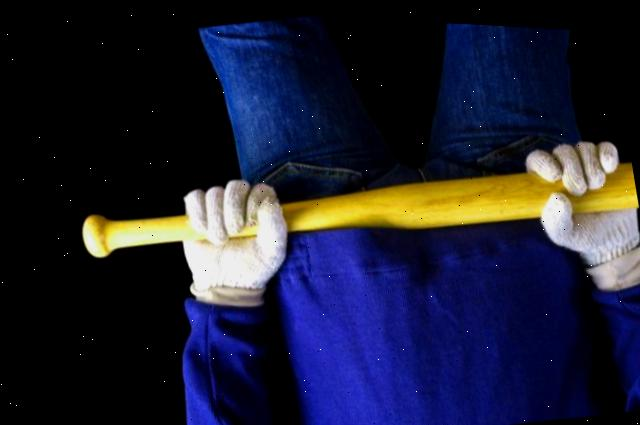baseball bat: (77, 125, 639, 286)
